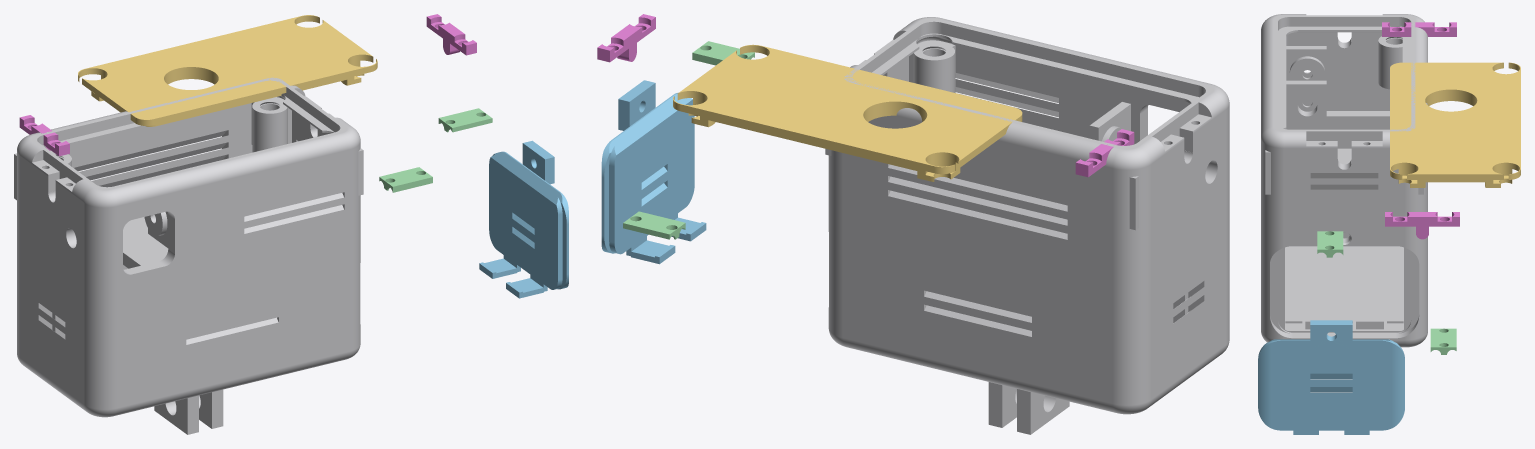
File: sender850_exploded.glb
3 views of the same model, side by side, from view 1: azimuth 30°, elevation 25°; view 2: azimuth 150°, elevation 25°; view 3: azimuth 270°, elevation 25° (orthographic). The views are drawn at different scales.
Visible parts, largest first — view 1: =>[0:1:1:3], =>[0:1:1:5], =>[0:1:1:4], =>[0:1:1:11], =>[0:1:1:7], =>[0:1:1:9], =>[0:1:1:10]; view 2: =>[0:1:1:3], =>[0:1:1:5], =>[0:1:1:4], =>[0:1:1:11], =>[0:1:1:7], =>[0:1:1:10], =>[0:1:1:9]; view 3: =>[0:1:1:3], =>[0:1:1:5], =>[0:1:1:4], =>[0:1:1:11], =>[0:1:1:10], =>[0:1:1:7], =>[0:1:1:9].
Part boxes in pixels (bbox=[...]): =>[0:1:1:3]: bbox=[14, 77, 363, 434]; =>[0:1:1:5]: bbox=[78, 15, 377, 126]; =>[0:1:1:4]: bbox=[479, 140, 568, 298]; =>[0:1:1:11]: bbox=[426, 14, 476, 55]; =>[0:1:1:7]: bbox=[379, 167, 432, 192]; =>[0:1:1:9]: bbox=[438, 108, 492, 132]; =>[0:1:1:10]: bbox=[19, 115, 69, 156]; =>[0:1:1:3]: bbox=[825, 17, 1229, 434]; =>[0:1:1:5]: bbox=[673, 44, 1022, 181]; =>[0:1:1:4]: bbox=[601, 80, 706, 264]; =>[0:1:1:11]: bbox=[597, 14, 655, 62]; =>[0:1:1:7]: bbox=[623, 211, 685, 239]; =>[0:1:1:10]: bbox=[1075, 129, 1134, 177]; =>[0:1:1:9]: bbox=[692, 41, 754, 65]; =>[0:1:1:3]: bbox=[1261, 14, 1427, 347]; =>[0:1:1:5]: bbox=[1390, 62, 1520, 187]; =>[0:1:1:4]: bbox=[1258, 320, 1404, 434]; =>[0:1:1:11]: bbox=[1385, 212, 1459, 239]; =>[0:1:1:10]: bbox=[1382, 22, 1456, 36]; =>[0:1:1:7]: bbox=[1430, 328, 1456, 354]; =>[0:1:1:9]: bbox=[1317, 231, 1343, 257].
Size of the model in its own units: 0.1258 by 0.0705 by 0.0621.
